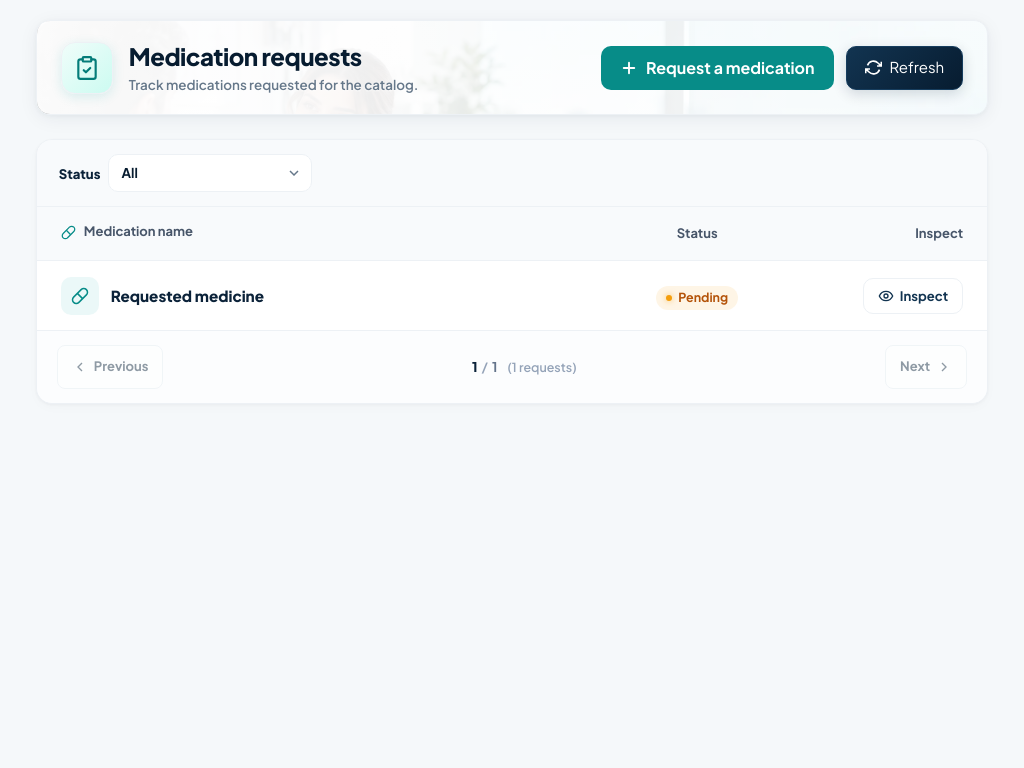
Test: Medication request workflows › opens own details and only permits editing pending or returned requests
This screenshot has width=1024, height=768.
Click the button "Inspect" at [913, 296], box [863,278,963,314]
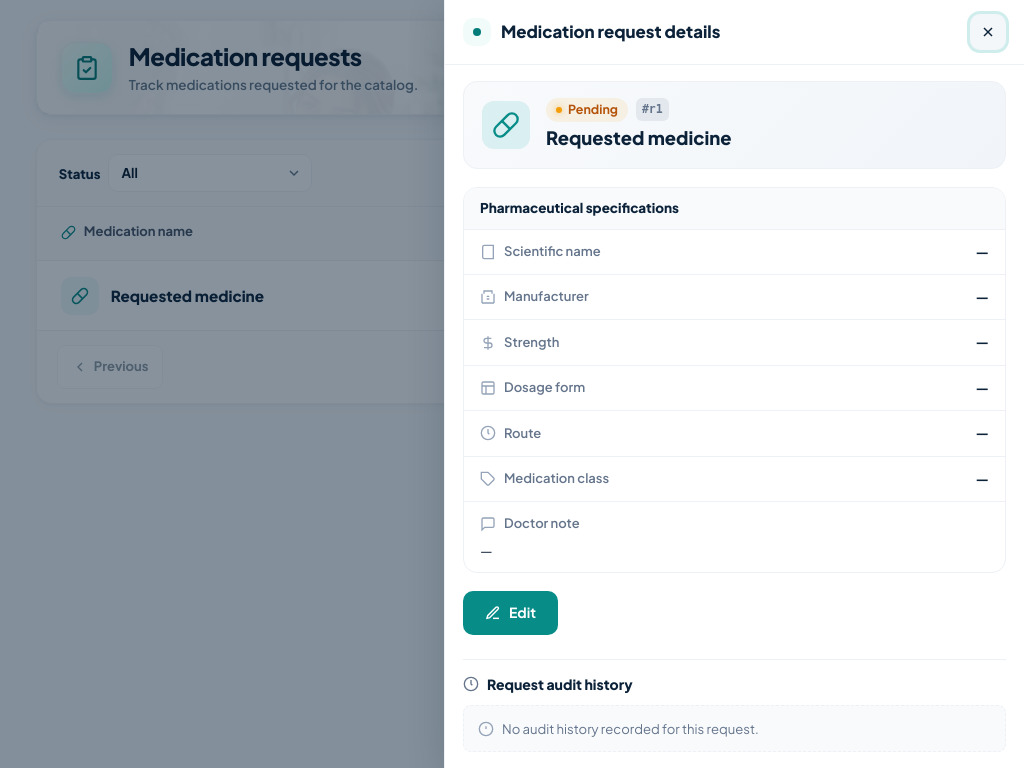
Expected: the dialog is shown, [444,0,1023,767]
